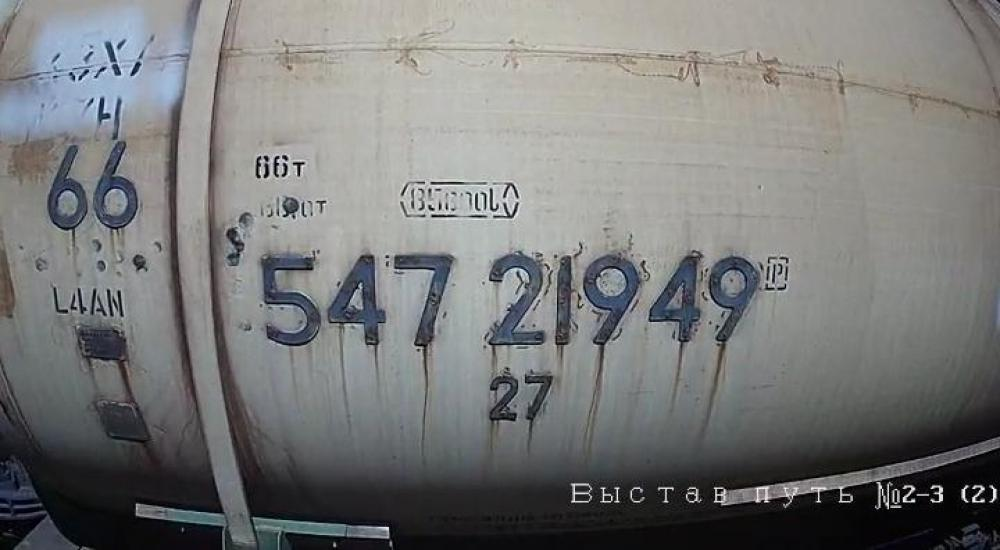Wagon-number: (256, 246, 766, 356)
